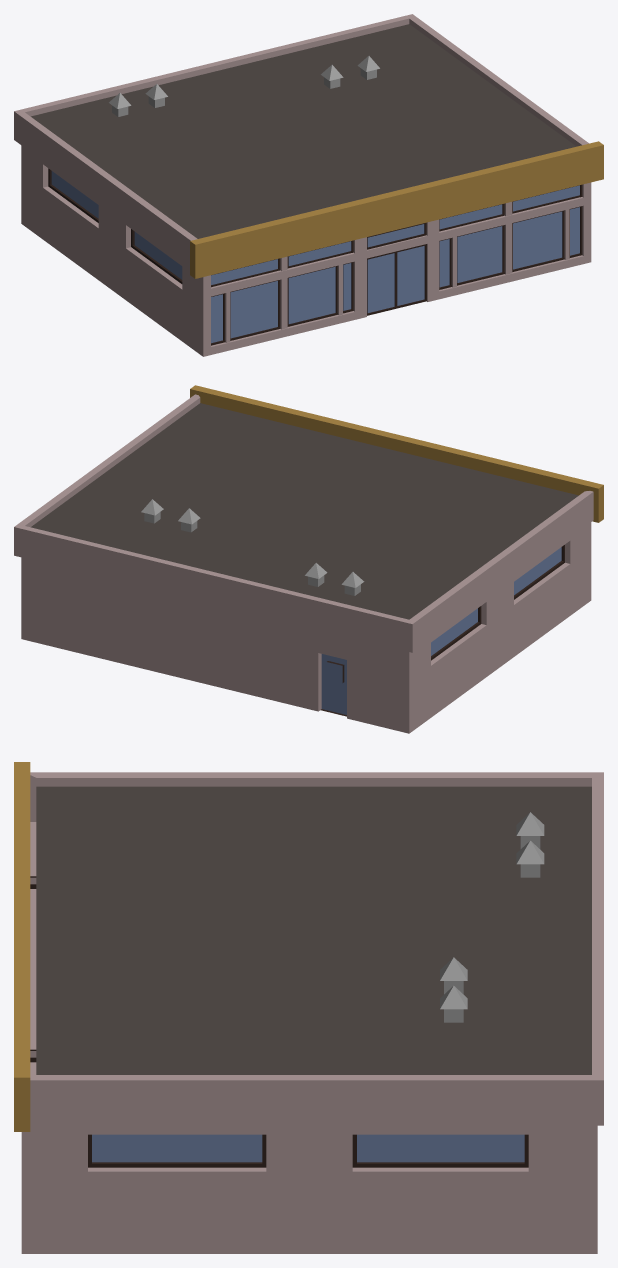
File: Supermarket_02.fbx
3 renders of one model, top to bottom at view 1: azimuth 30°, elevation 25°; view 2: azimuth 150°, elevation 25°; view 3: azimuth 270°, elevation 25°, orthographic. The views are drawn at different scales.
Parts seen in each view (by area): view 1: Supermarket_02; view 2: Supermarket_02; view 3: Supermarket_02.
Boxes of the visible parts, x1=… form: Supermarket_02: x1=14, y1=14, x2=603, y2=356; Supermarket_02: x1=14, y1=385, x2=603, y2=733; Supermarket_02: x1=14, y1=762, x2=603, y2=1253.
Bounding box in the file's own units: 16.05 × 4.79 × 12.68.
